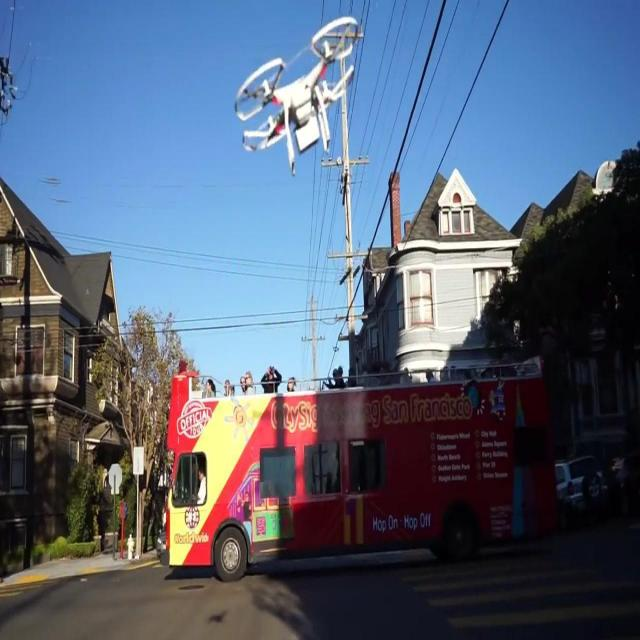UAV: (234, 16, 359, 178)
